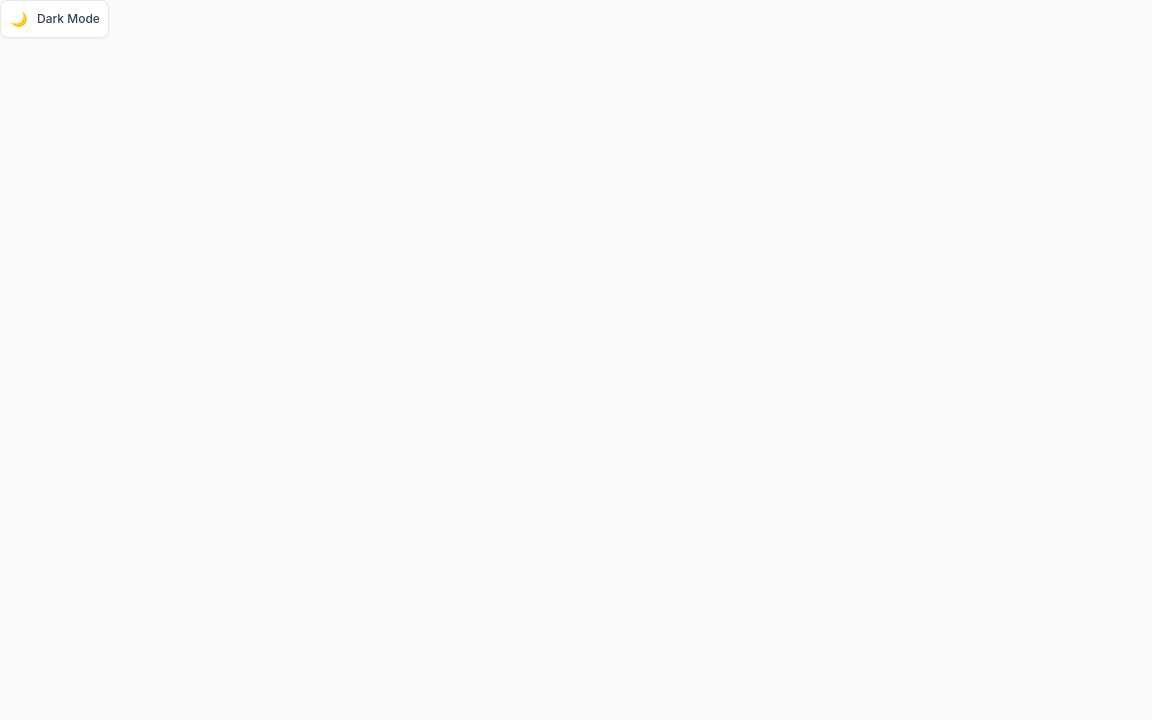
ThemeContext & ThemeToggle › renders ThemeToggle button with accessible labels and responds to clicks
expect the text "Dark Mode" is shown: met, box [37,11,100,27]
Click the button with aria-label "switch to dark mode" at coordinates (54, 19), box [0,0,109,38]
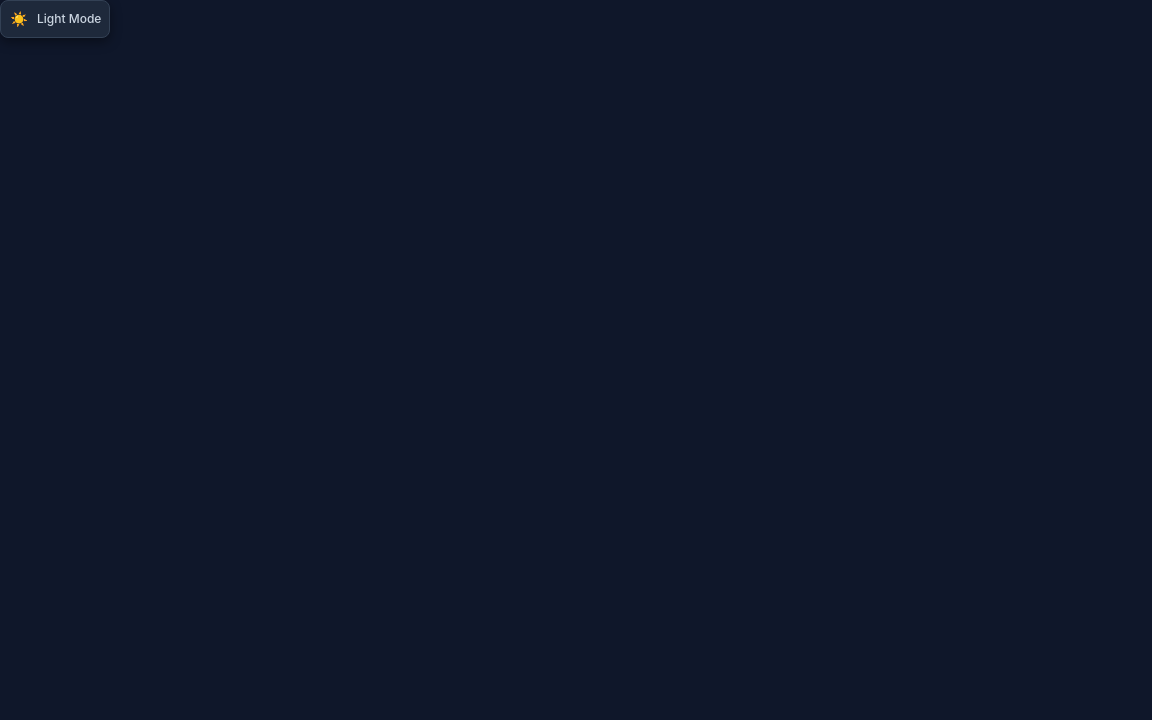
expect the button with aria-label "switch to light mode" is shown: met, box [0,0,110,38]
expect the text "Light Mode" is shown: met, box [37,11,101,27]
